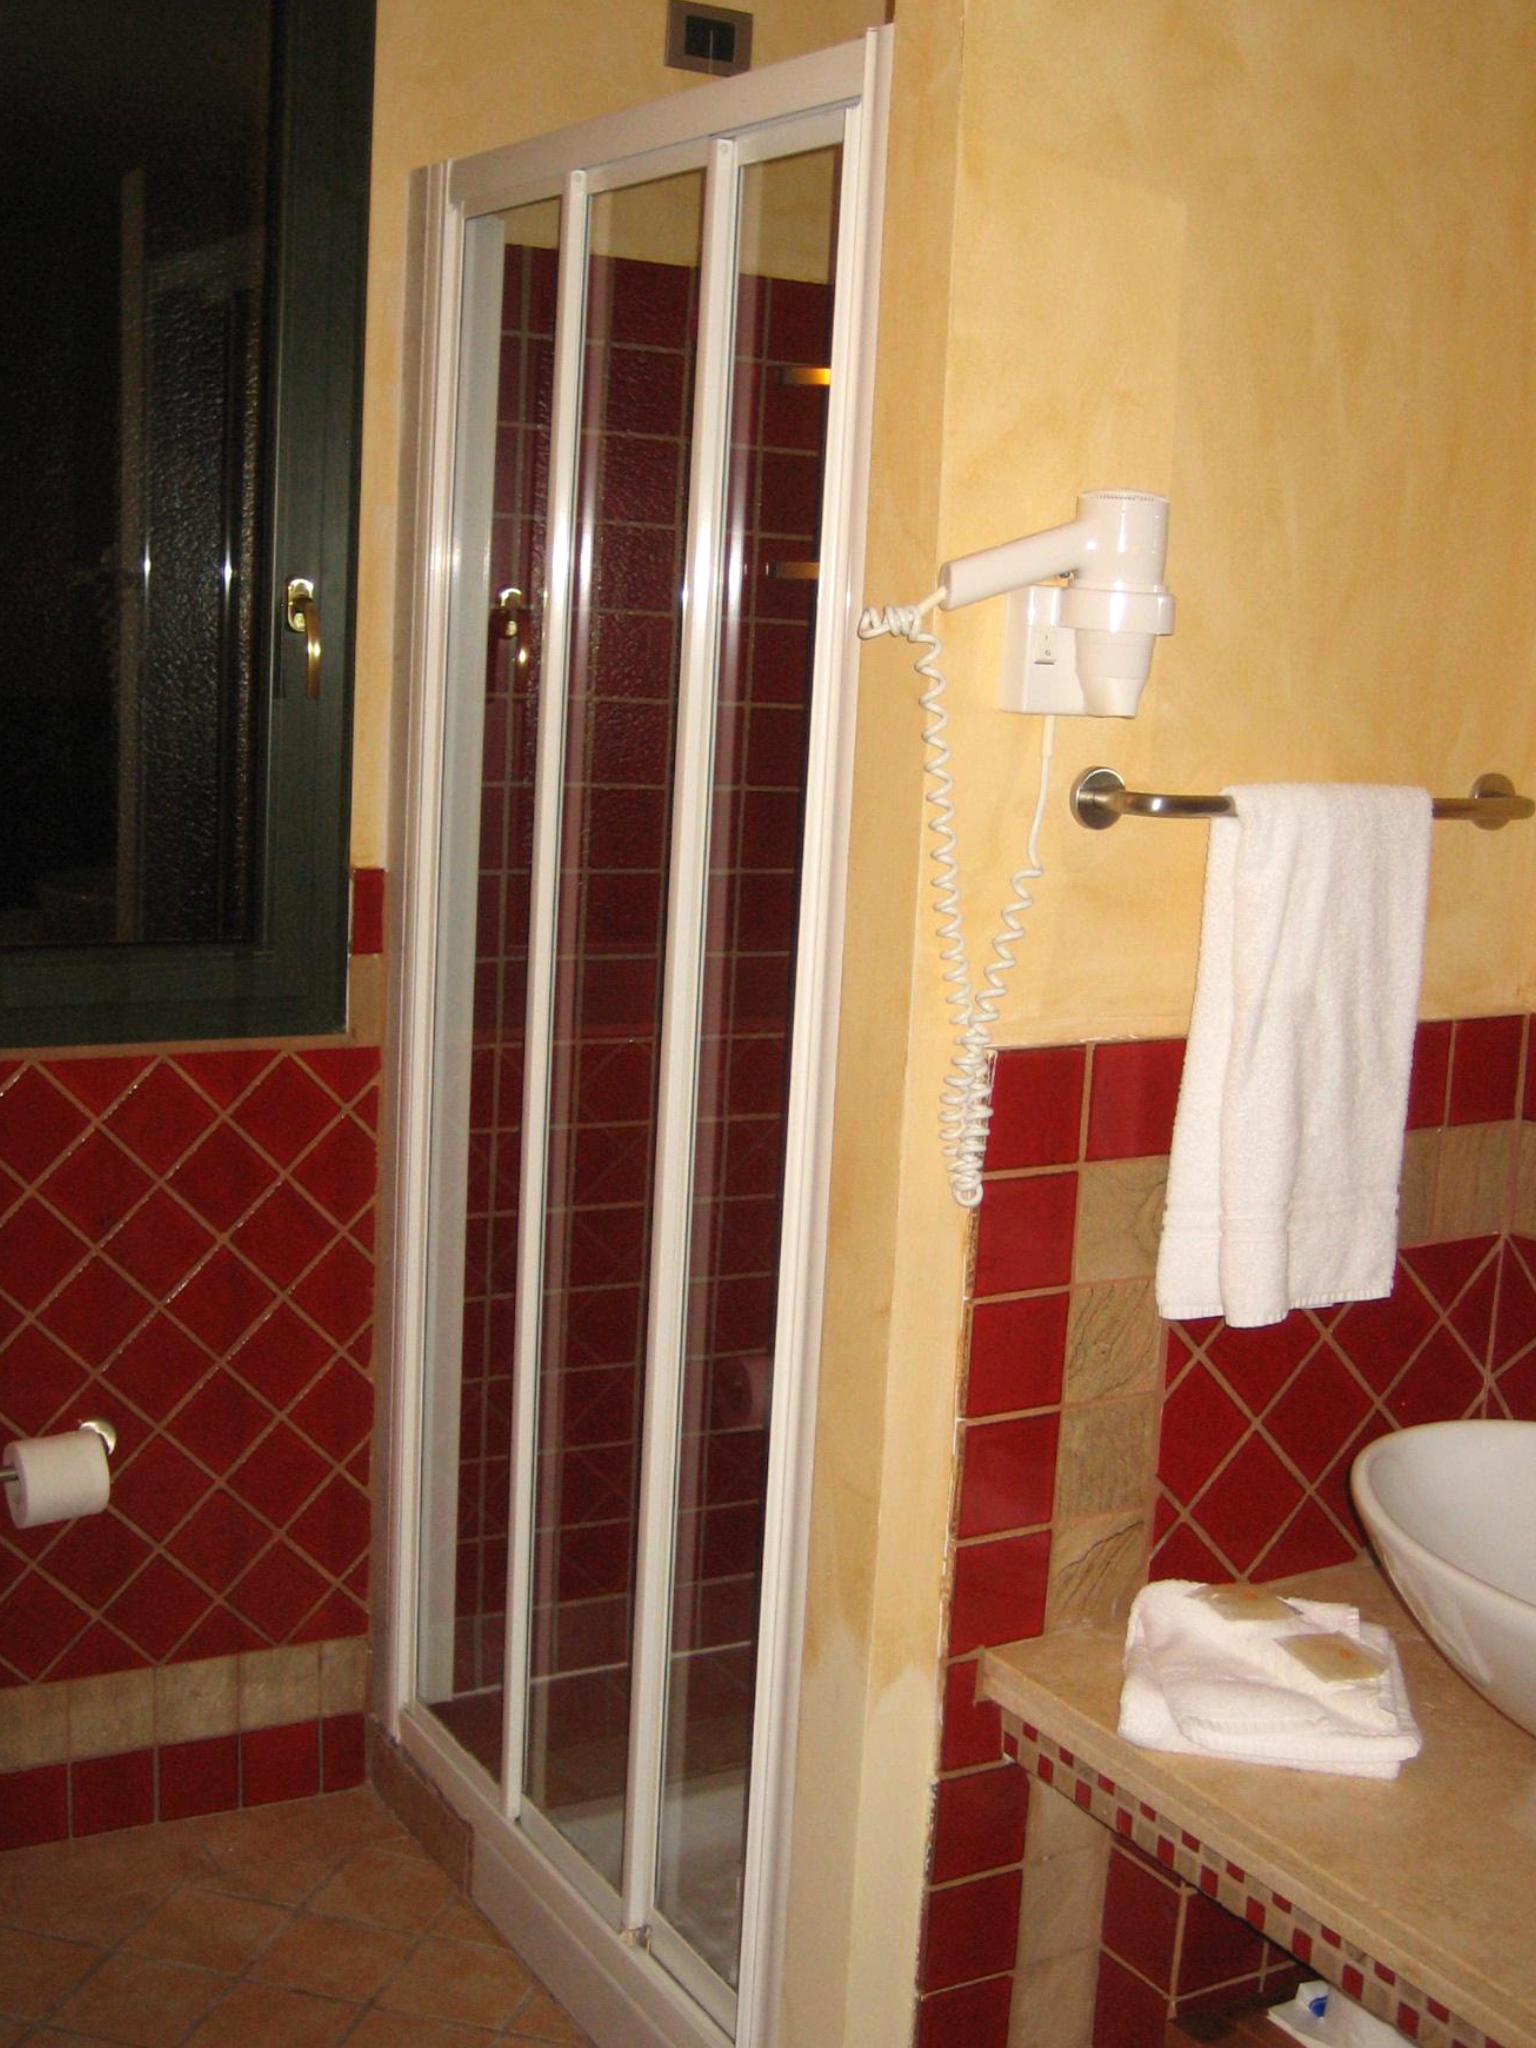Ducha: (418, 102, 845, 2048)
Lavamanos: (1342, 1334, 1536, 1893)
